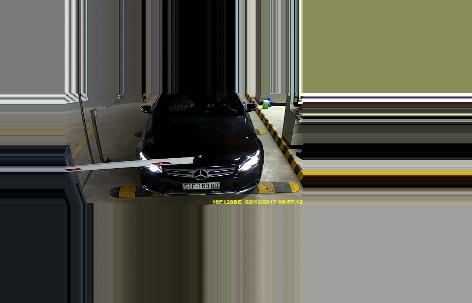plate: (182, 180, 221, 194)
